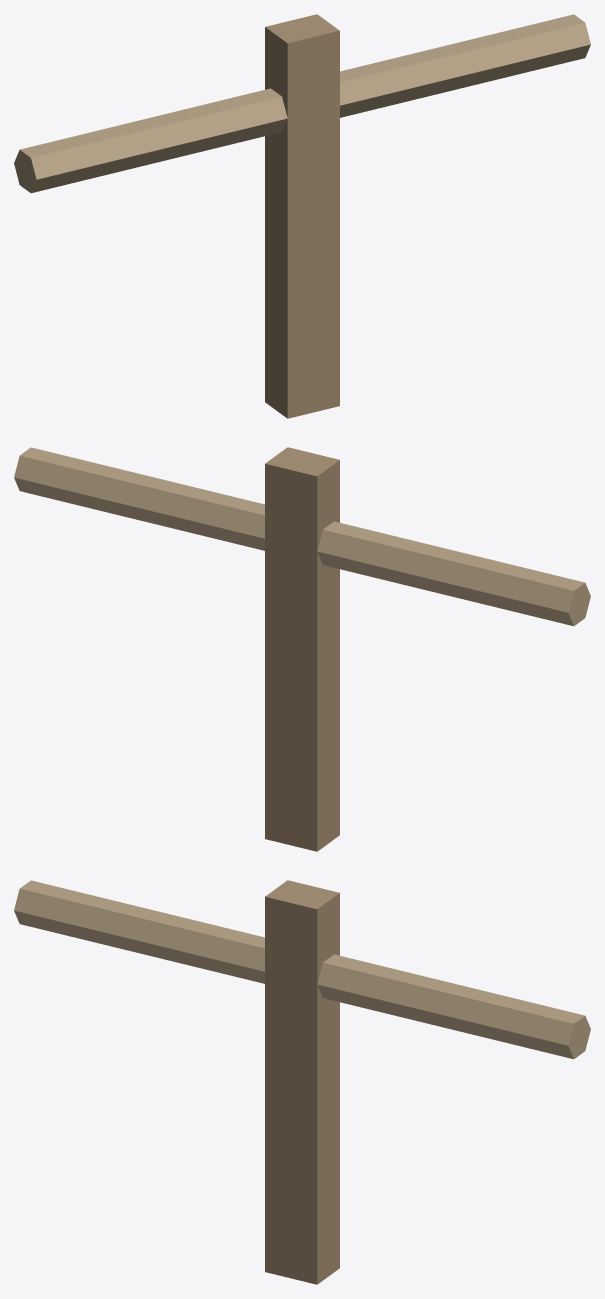
File: greatbow.glb
3 renders of one model, top to bottom at view 1: azimuth 30°, elevation 25°; view 2: azimuth 150°, elevation 25°; view 3: azimuth 330°, elevation 25°, orthographic.
Parts seen in each view (by area): view 1: greatbow; view 2: greatbow; view 3: greatbow.
Part boxes in pixels (x1,y1,x2,y2): greatbow: (14,14,590,418); greatbow: (14,447,590,851); greatbow: (14,880,590,1284).
Bounding box in the file's own units: 0.85 × 0.55 × 0.06.
